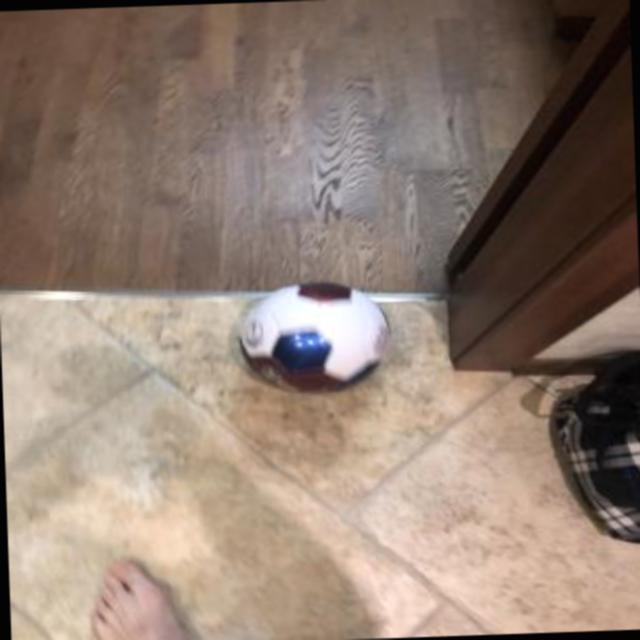Soccer Ball: (238, 276, 400, 398)
